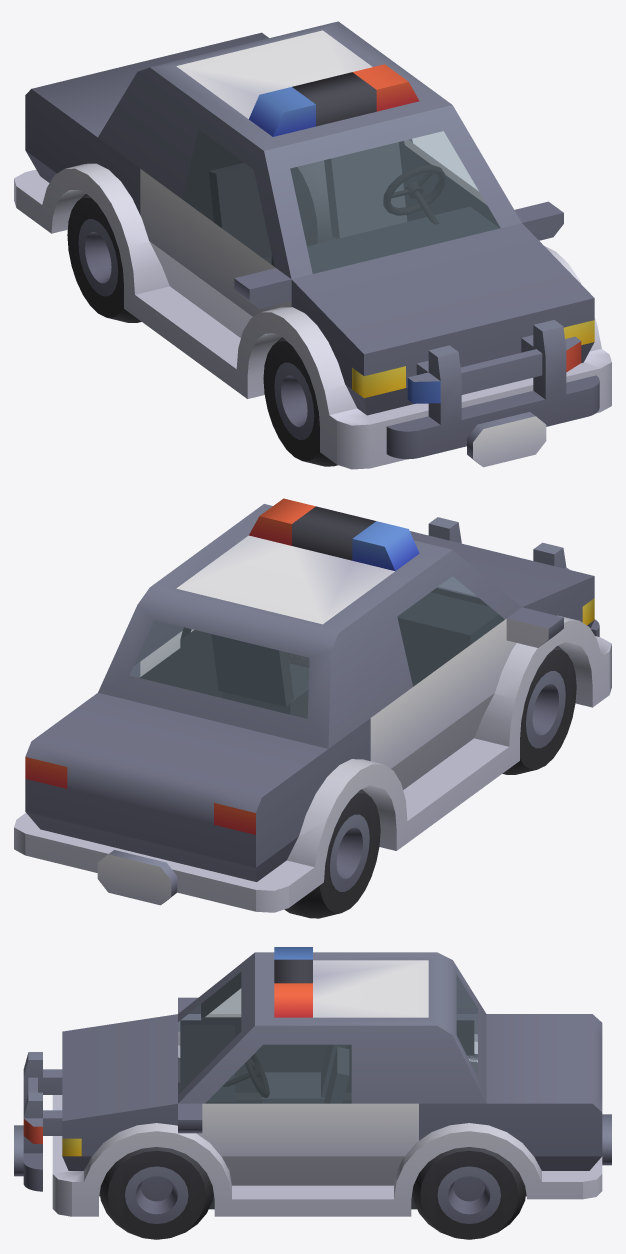
The model's file is security.glb.
The picture shows the model from 3 angles, top to bottom: view 1: azimuth 30°, elevation 25°; view 2: azimuth 150°, elevation 25°; view 3: azimuth 270°, elevation 25°; orthographic projection. The views are drawn at different scales.
Visible parts, largest first — view 1: body, glass, interior, door-front-right-panel, door-front-right-glass, wheel-front-right, wheel-back-right, wheel-back-left, steering-wheel, door-front-left-glass, door-front-left-panel, door-front-left-trim; view 2: body, interior, door-front-right-panel, glass, door-front-right-glass, wheel-back-right, wheel-front-right; view 3: body, door-front-left-panel, interior, wheel-front-left, wheel-back-left, door-front-left-glass, glass, door-front-right-trim, steering-wheel, door-front-right-glass.
Boxes of the visible parts, box(x1,y1,x2,y2) form: body: box(14, 21, 611, 469); glass: box(290, 131, 499, 273); interior: box(183, 129, 500, 273); door-front-right-panel: box(172, 122, 283, 363); door-front-right-glass: box(183, 130, 274, 266); wheel-front-right: box(263, 337, 337, 466); wheel-back-right: box(67, 194, 141, 322); wheel-back-left: box(290, 160, 335, 245); steering-wheel: box(383, 164, 445, 224); door-front-left-glass: box(412, 131, 477, 189); door-front-left-panel: box(404, 139, 486, 204); door-front-left-trim: box(399, 141, 494, 218); body: box(14, 498, 611, 912); interior: box(140, 588, 504, 718); door-front-right-panel: box(387, 564, 549, 783); glass: box(130, 576, 475, 718); door-front-right-glass: box(397, 576, 504, 686); wheel-back-right: box(284, 789, 380, 918); wheel-front-right: box(502, 646, 576, 774); body: box(14, 947, 611, 1216); door-front-left-panel: box(201, 1044, 368, 1190); interior: box(180, 1020, 474, 1209); wheel-front-left: box(99, 1147, 213, 1239); wheel-back-left: box(412, 1147, 526, 1239); door-front-left-glass: box(205, 1045, 351, 1103); glass: box(178, 972, 477, 1094); door-front-right-trim: box(201, 972, 351, 1100); steering-wheel: box(222, 1053, 269, 1097); door-front-right-glass: box(210, 989, 240, 1013).
Bounding box in the file's own units: 2.33 × 2.02 × 4.8.
Materials: 3 (1 with a texture image).
